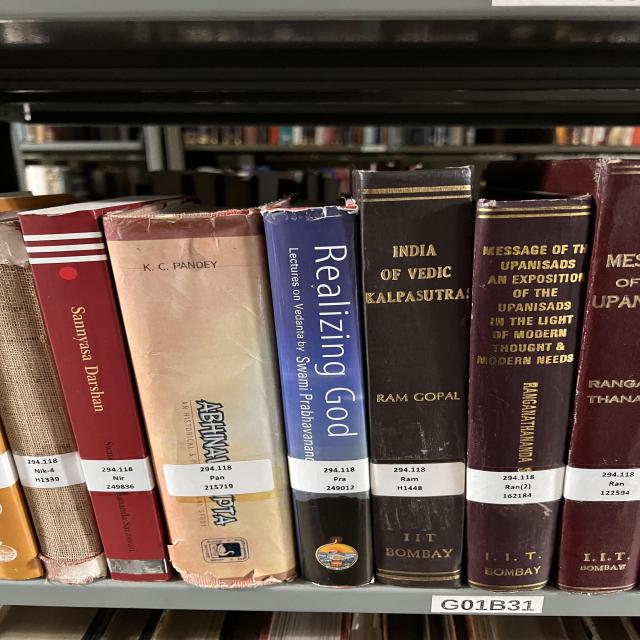Book: (103, 205, 297, 588), (488, 159, 640, 592), (18, 196, 172, 581), (467, 190, 593, 591), (353, 168, 473, 588), (262, 201, 373, 586), (0, 210, 107, 584)
Label: (163, 459, 275, 496), (467, 468, 565, 504), (370, 462, 465, 498), (288, 456, 370, 494), (563, 466, 640, 501), (82, 456, 155, 492)
